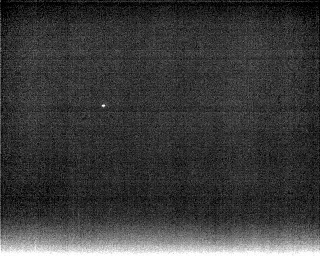BIRD: (100, 101, 107, 110)
